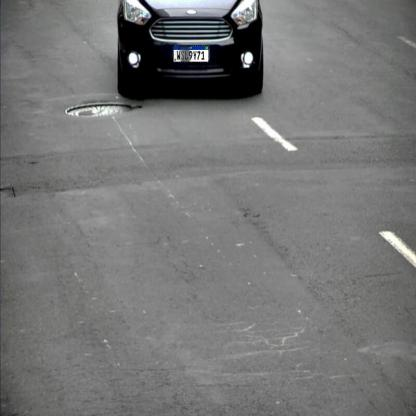PlacaM: (173, 45, 209, 62)
